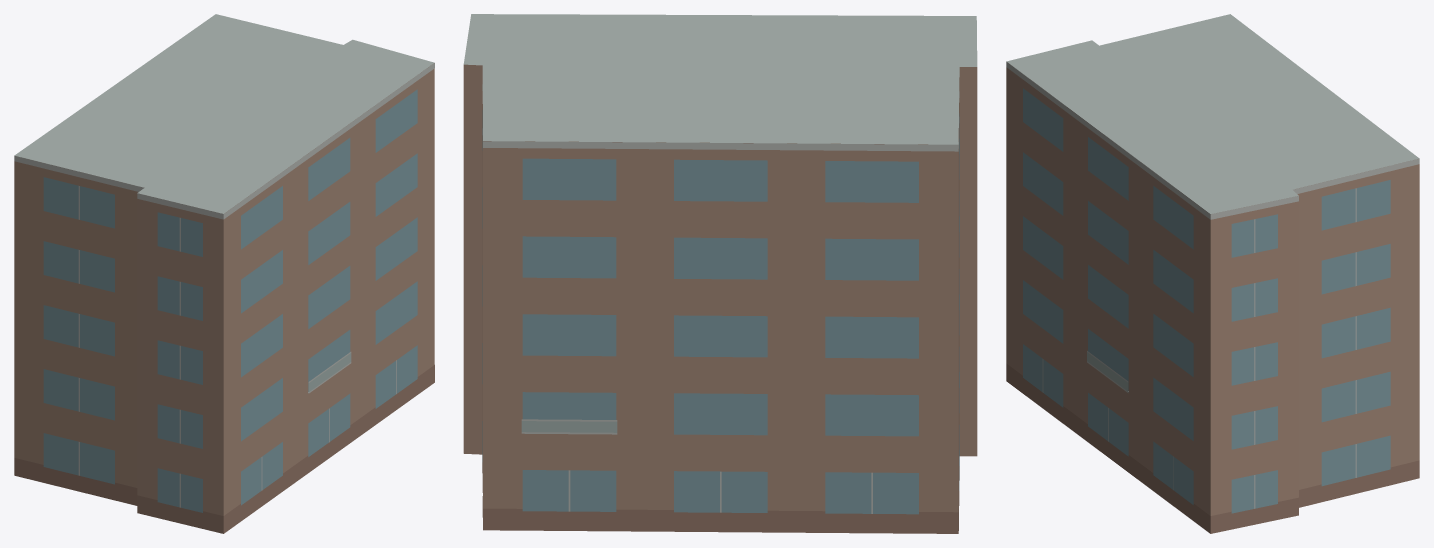
The model's file is survey-upis-32743127.glb.
3 renders of one model, left to right at view 1: azimuth 30°, elevation 25°; view 2: azimuth 150°, elevation 25°; view 3: azimuth 270°, elevation 25°, orthographic. The views are drawn at different scales.
Parts seen in each view (by area): view 1: survey-upis-32743127.tmp; view 2: survey-upis-32743127.tmp; view 3: survey-upis-32743127.tmp.
Part boxes in pixels (x1,y1,x2,y2): survey-upis-32743127.tmp: (14,14,434,533); survey-upis-32743127.tmp: (463,14,977,533); survey-upis-32743127.tmp: (1006,14,1419,533).
Size of the model in its own units: 18.68 by 13.9 by 16.3.
